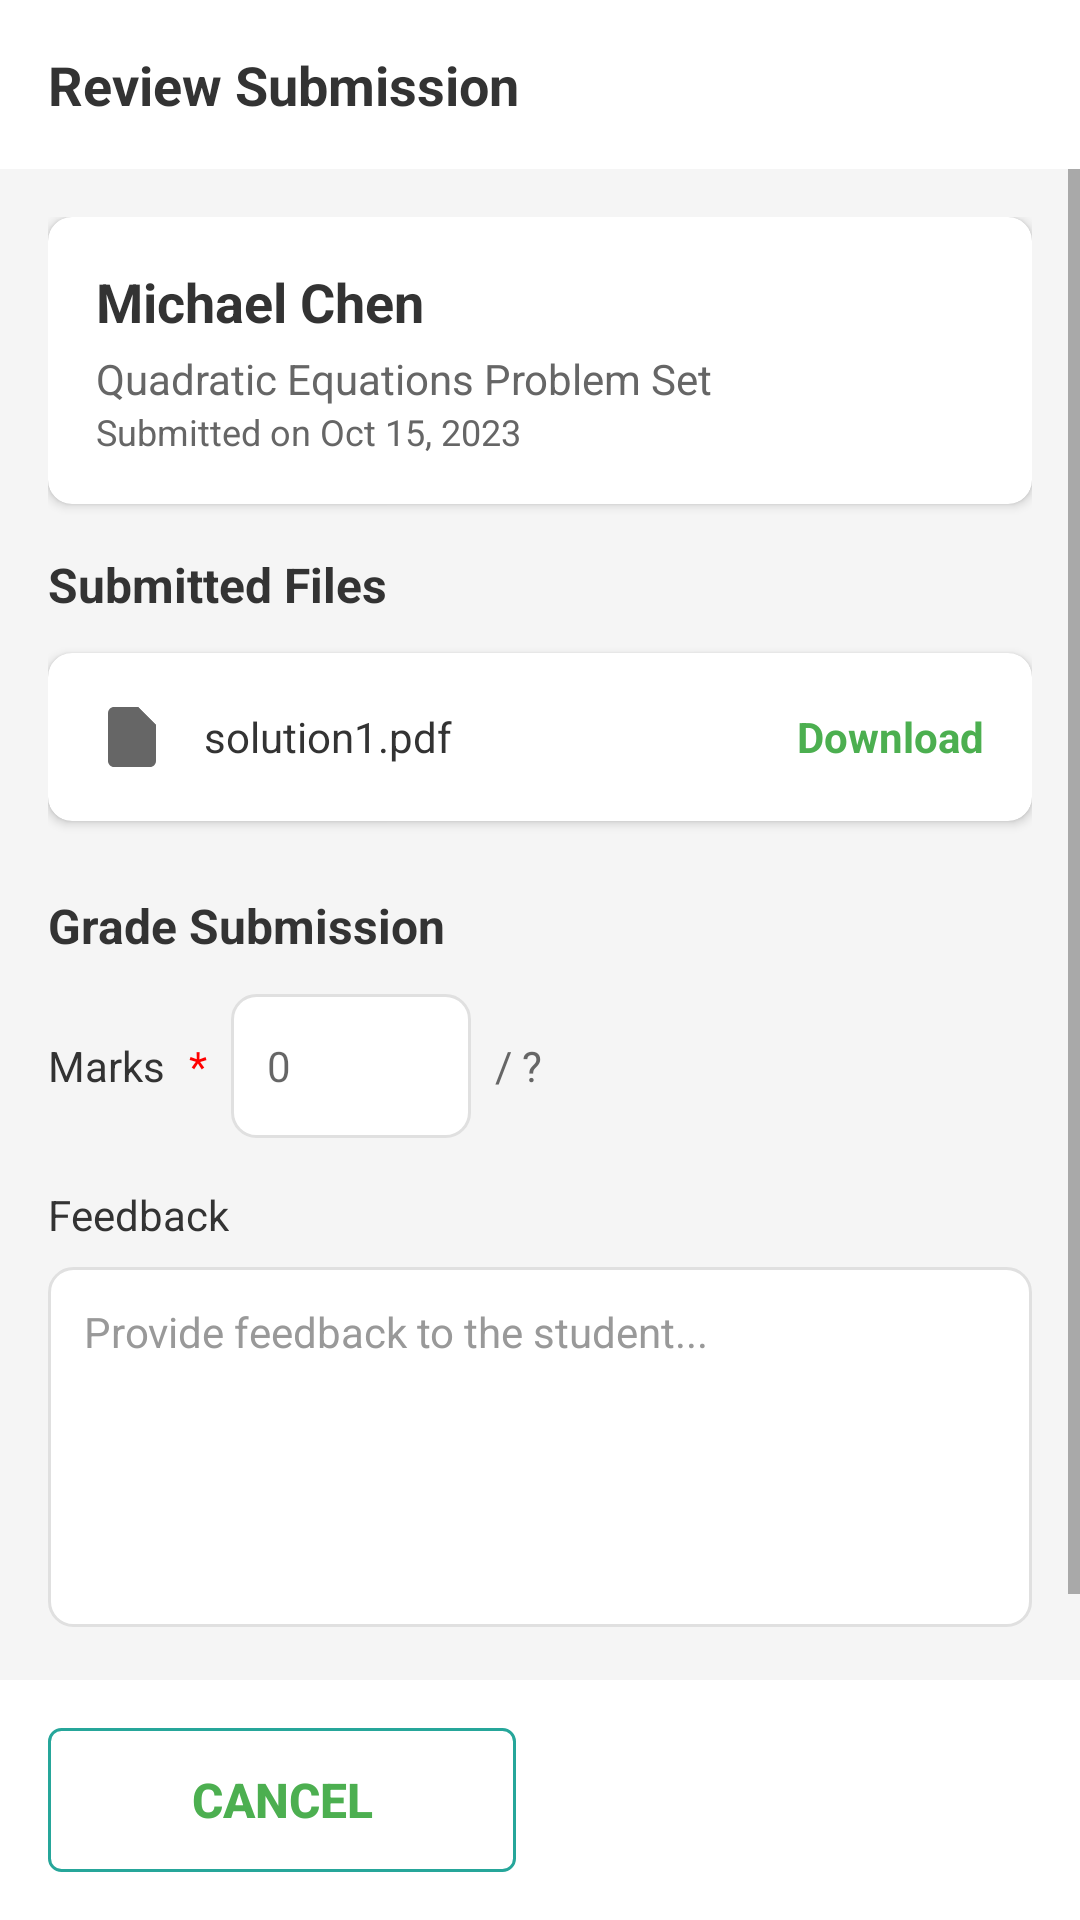

Locate icon controls on the screen. Image size 1080×1920, boxes as box(x1, y1, x2, y2).
file document: box(108, 707, 156, 767)
